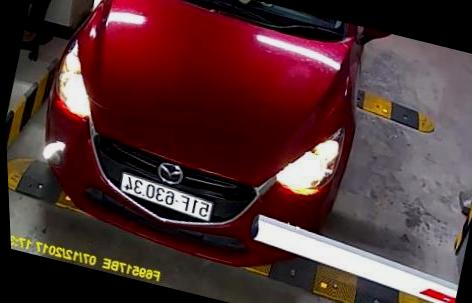License_Plate: (115, 165, 226, 231)
